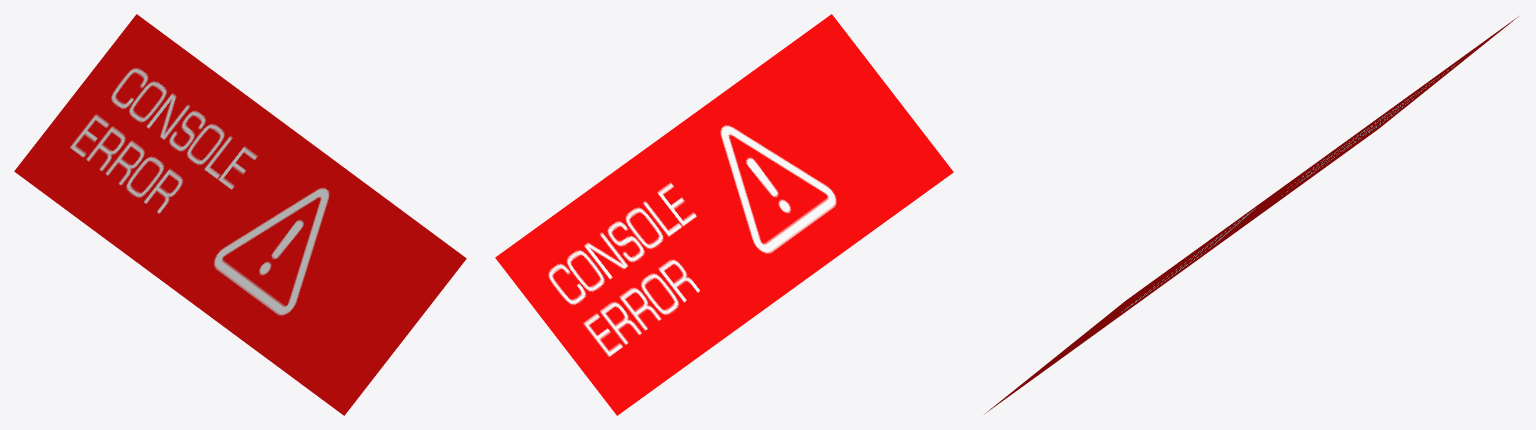
Rendered from console2.glb.
3 views of the same model, side by side, from view 1: azimuth 30°, elevation 25°; view 2: azimuth 150°, elevation 25°; view 3: azimuth 330°, elevation 25° (orthographic). The views are drawn at different scales.
Visible parts, largest first — view 1: subecranBot; view 2: subecranBot; view 3: subecranBot.
Boxes of the visible parts, left/top/right/bottom form: subecranBot: left=14, top=14, right=466, bottom=415; subecranBot: left=495, top=14, right=953, bottom=415; subecranBot: left=985, top=16, right=1518, bottom=413.
Bounding box in the file's own units: 1.25 × 1.22 × 5.78.
Materials: 1 (1 with a texture image).
